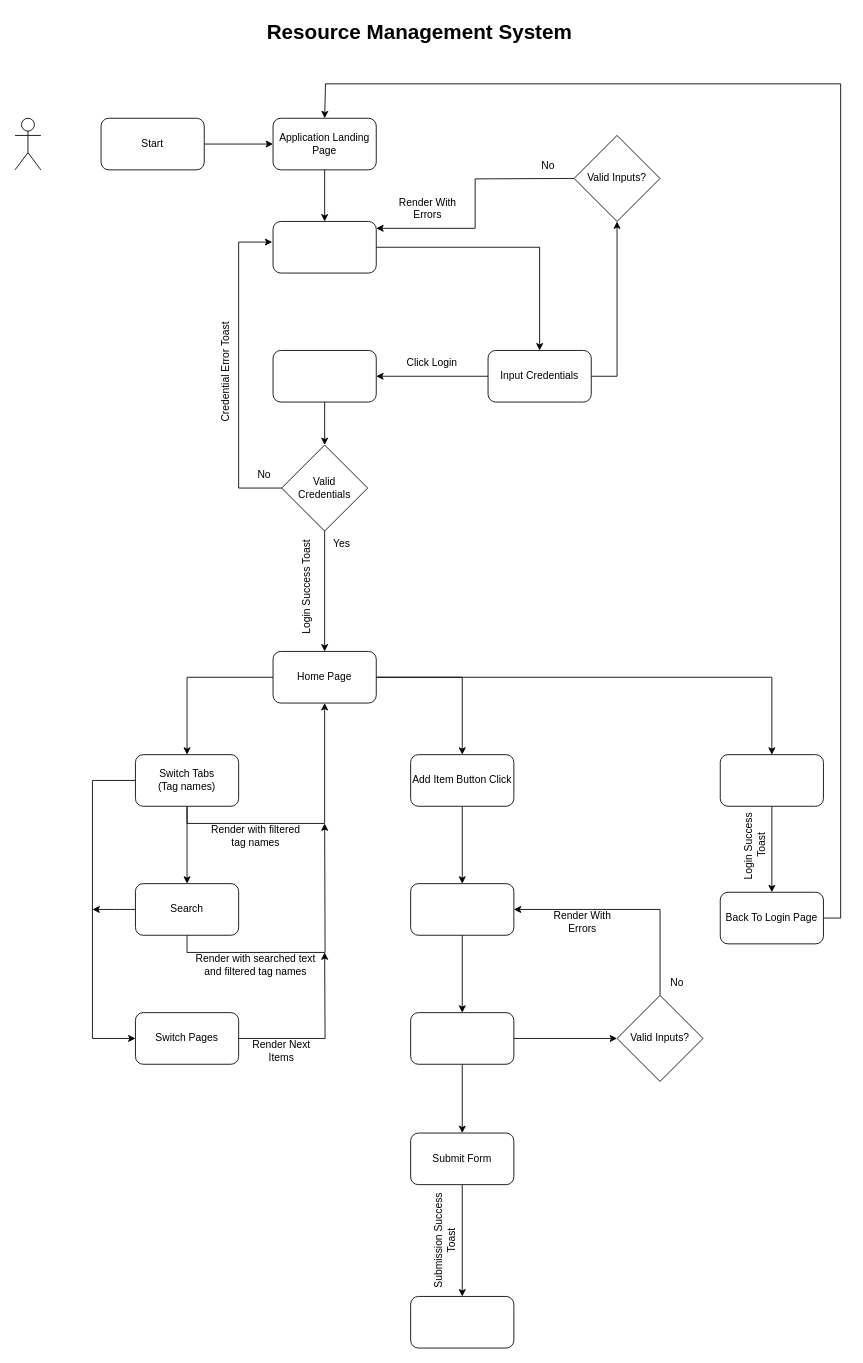
Some shapes in this 863 by 1363 pixel diagram are drawn without their labels. Here are the shapes that lost their labels. From the top down, the centre of each, then its label:
At pixel 27 143: "User".
At pixel 324 247: "Login Dialog".
At pixel 324 376: "Submit Login Form".
At pixel 771 780: "Click User Profile Icon".
At pixel 462 909: "Add Item Page".
At pixel 462 1038: "Enter Form Data".
At pixel 462 1322: "Clear Form".
